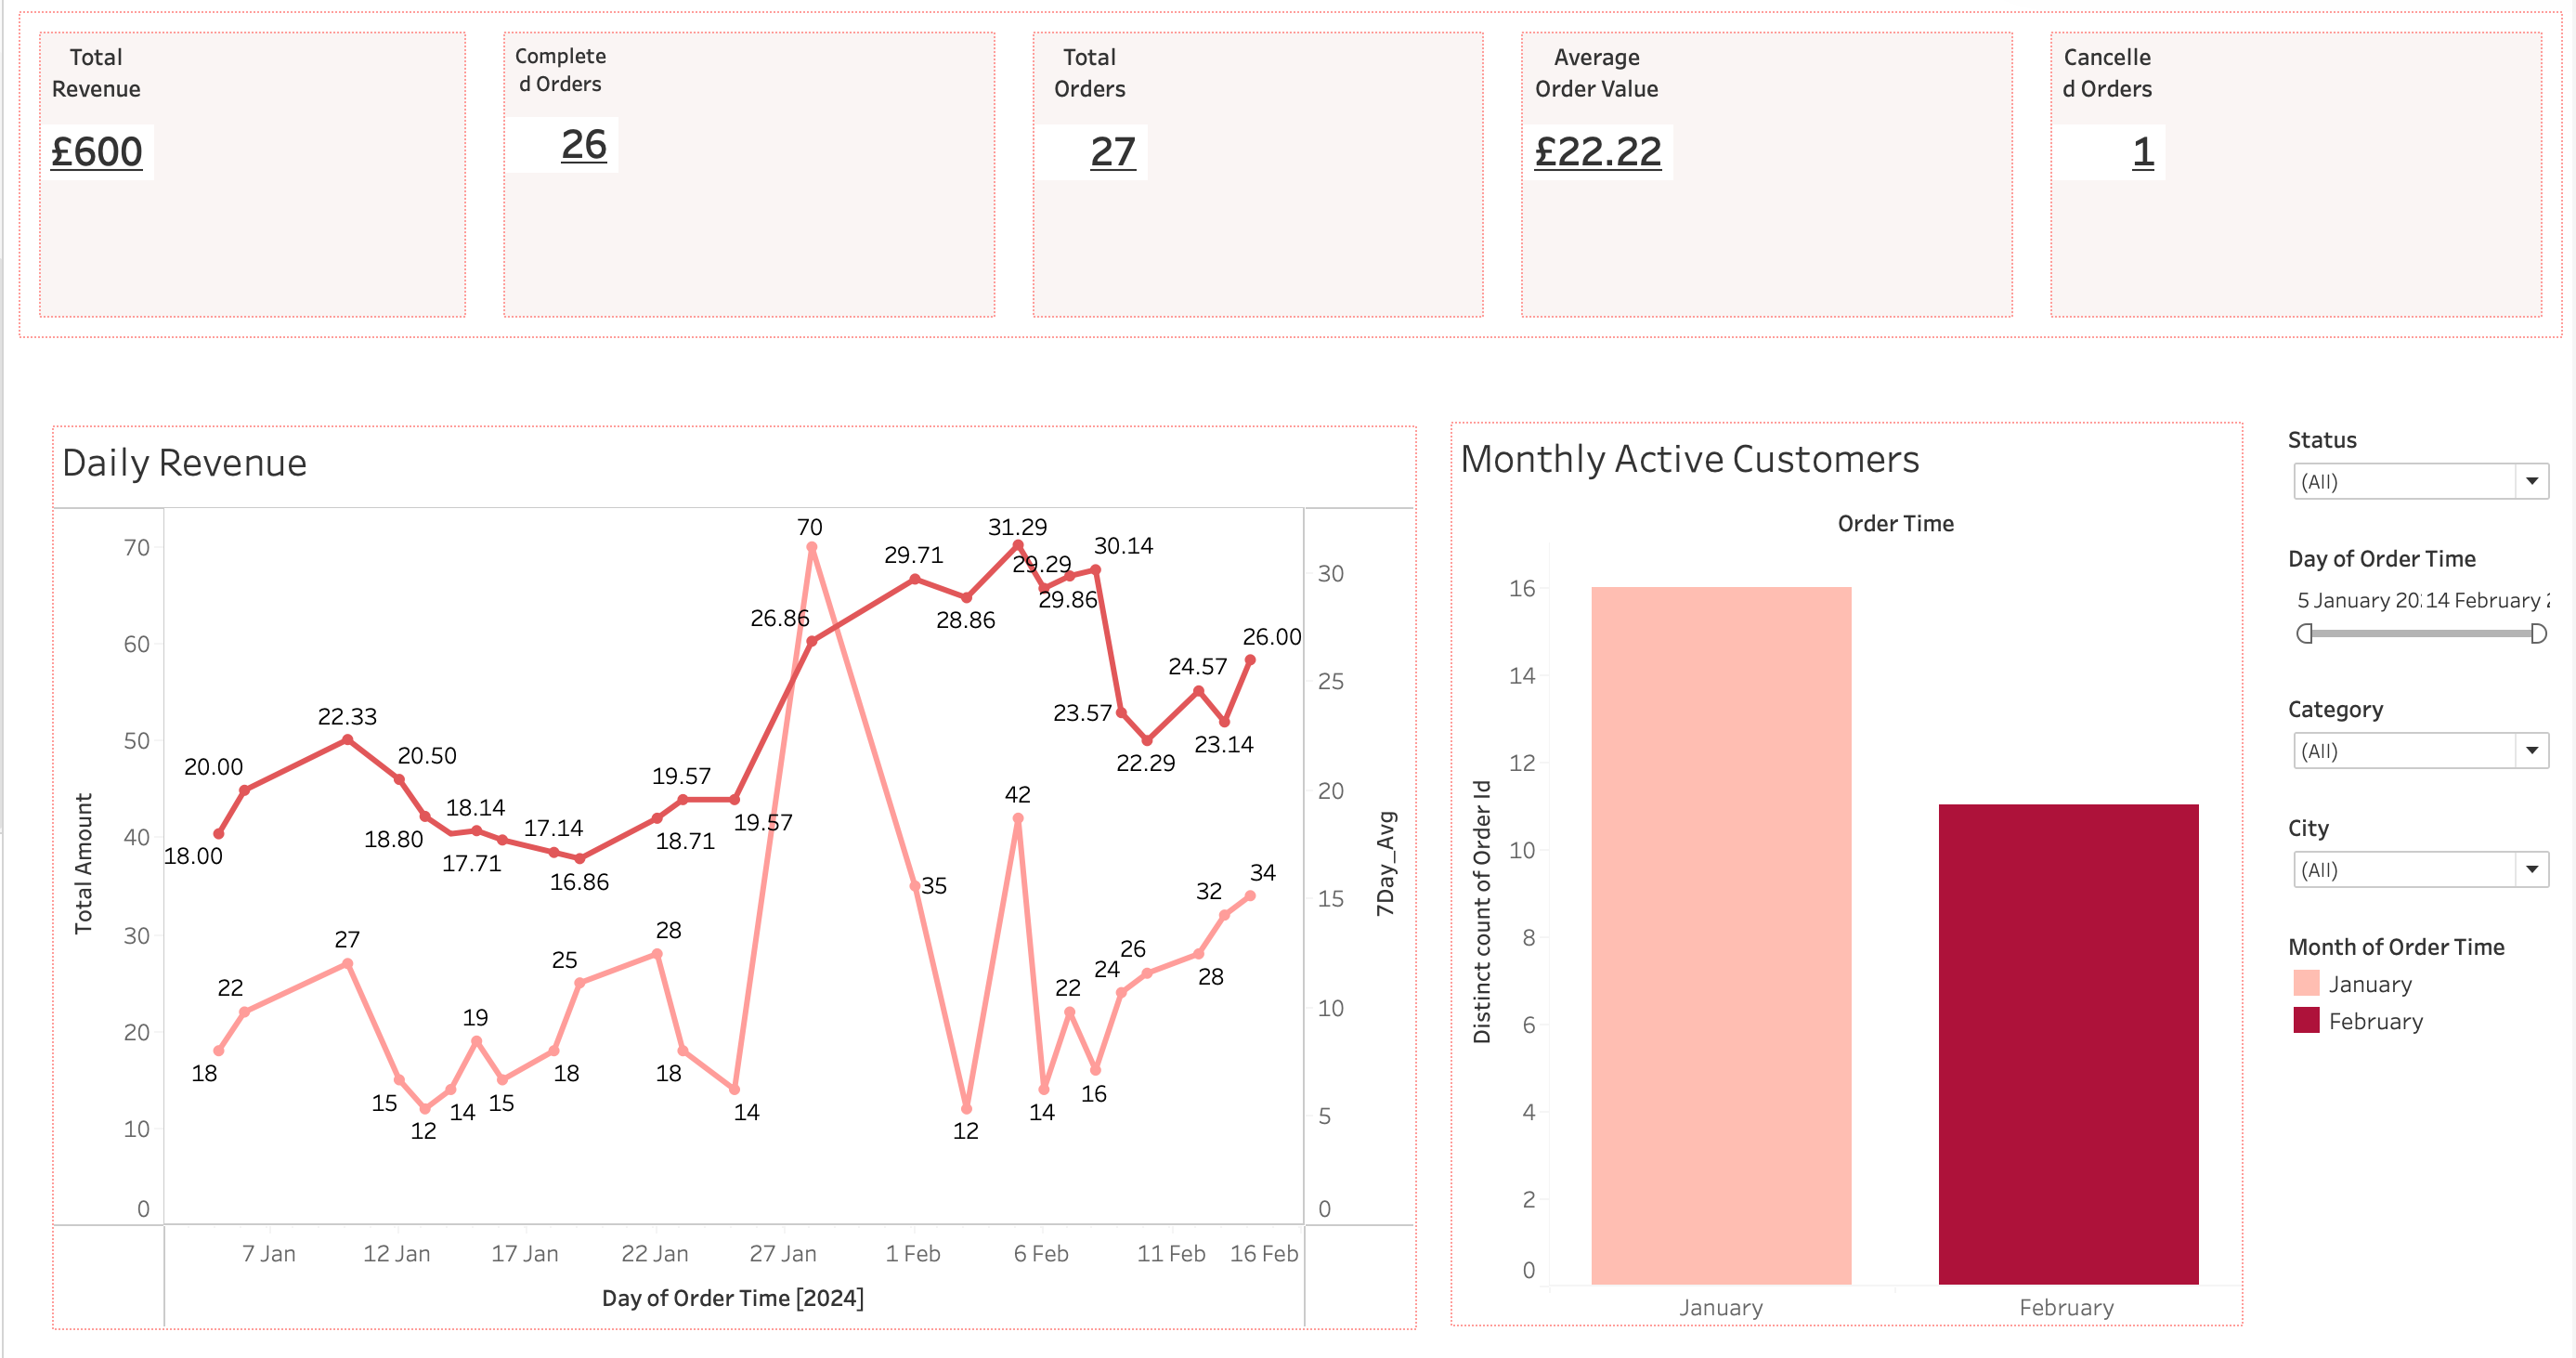

This screenshot's page, from the dashboard's own definition file:
{"tool":"tableau","page":{"name":"Dashboard 1","canvas":[1000,1000],"units":"permille","ordinal":0},"visuals":[{"type":"worksheet","title":"Sheet 8","mark":"Automatic","box":[6.2,12.2,190.8,235.8]},{"type":"worksheet","title":"Sheet 11","mark":"Automatic","box":[197.1,12.2,199.6,235.8]},{"type":"worksheet","title":"Sheet 9","mark":"Automatic","box":[396.6,12.2,199.6,235.8]},{"type":"worksheet","title":"Sheet 10","mark":"Automatic","box":[596.2,12.2,199.6,235.8]},{"type":"worksheet","title":"Sheet 12","mark":"Automatic","box":[795.8,12.2,199.6,235.8]},{"type":"worksheet","title":"Sheet 14","mark":"Bar","rows":["order_id"],"cols":["order_time"],"box":[556,296.4,323.2,687.4]},{"type":"filter","title":"Sheet 13","param":"[federated.1q6bvby103prvn18byx0q17hj22l].[none:status:nk]","box":[882.1,297.7,118.6,86.7]},{"type":"worksheet","title":"Sheet 13","mark":"Automatic","rows":["total_amount"],"cols":["order_time"],"box":[11.6,299.1,545.9,687.4]},{"type":"filter","title":"Sheet 13","param":"[federated.1q6bvby103prvn18byx0q17hj22l].[tdy:order_time:qk]","box":[882.1,384.4,118.6,109.8]},{"type":"filter","title":"Sheet 13","param":"[federated.1q6bvby103prvn18byx0q17hj22l].[none:category:nk]","box":[882.1,494.2,118.6,86.7]},{"type":"filter","title":"Sheet 13","param":"[federated.1q6bvby103prvn18byx0q17hj22l].[none:city:nk]","box":[882.1,580.9,118.6,86.7]},{"type":"legend","title":"Sheet 14","param":"[federated.1q6bvby103prvn18byx0q17hj22l].[mn:order_time:ok]","box":[882.1,667.6,118.6,105.7]}]}

Visuals, with their boxes on the dashboard's canvas, which has no fixed pixel size, in thousandths of its width and height (x1, y1, x2, y2). These are canvas units, not pixel positions in the 2576x1358 screenshot, which may show the page scaled, cropped or inside an application window:
"Sheet 8" worksheet: 6, 12, 197, 248
"Sheet 11" worksheet: 197, 12, 397, 248
"Sheet 9" worksheet: 397, 12, 596, 248
"Sheet 10" worksheet: 596, 12, 796, 248
"Sheet 12" worksheet: 796, 12, 995, 248
"Sheet 14" worksheet (Bar marks): 556, 296, 879, 984
"Sheet 13" filter: 882, 298, 1001, 384
"Sheet 13" worksheet: 12, 299, 558, 986
"Sheet 13" filter: 882, 384, 1001, 494
"Sheet 13" filter: 882, 494, 1001, 581
"Sheet 13" filter: 882, 581, 1001, 668
"Sheet 14" legend: 882, 668, 1001, 773
